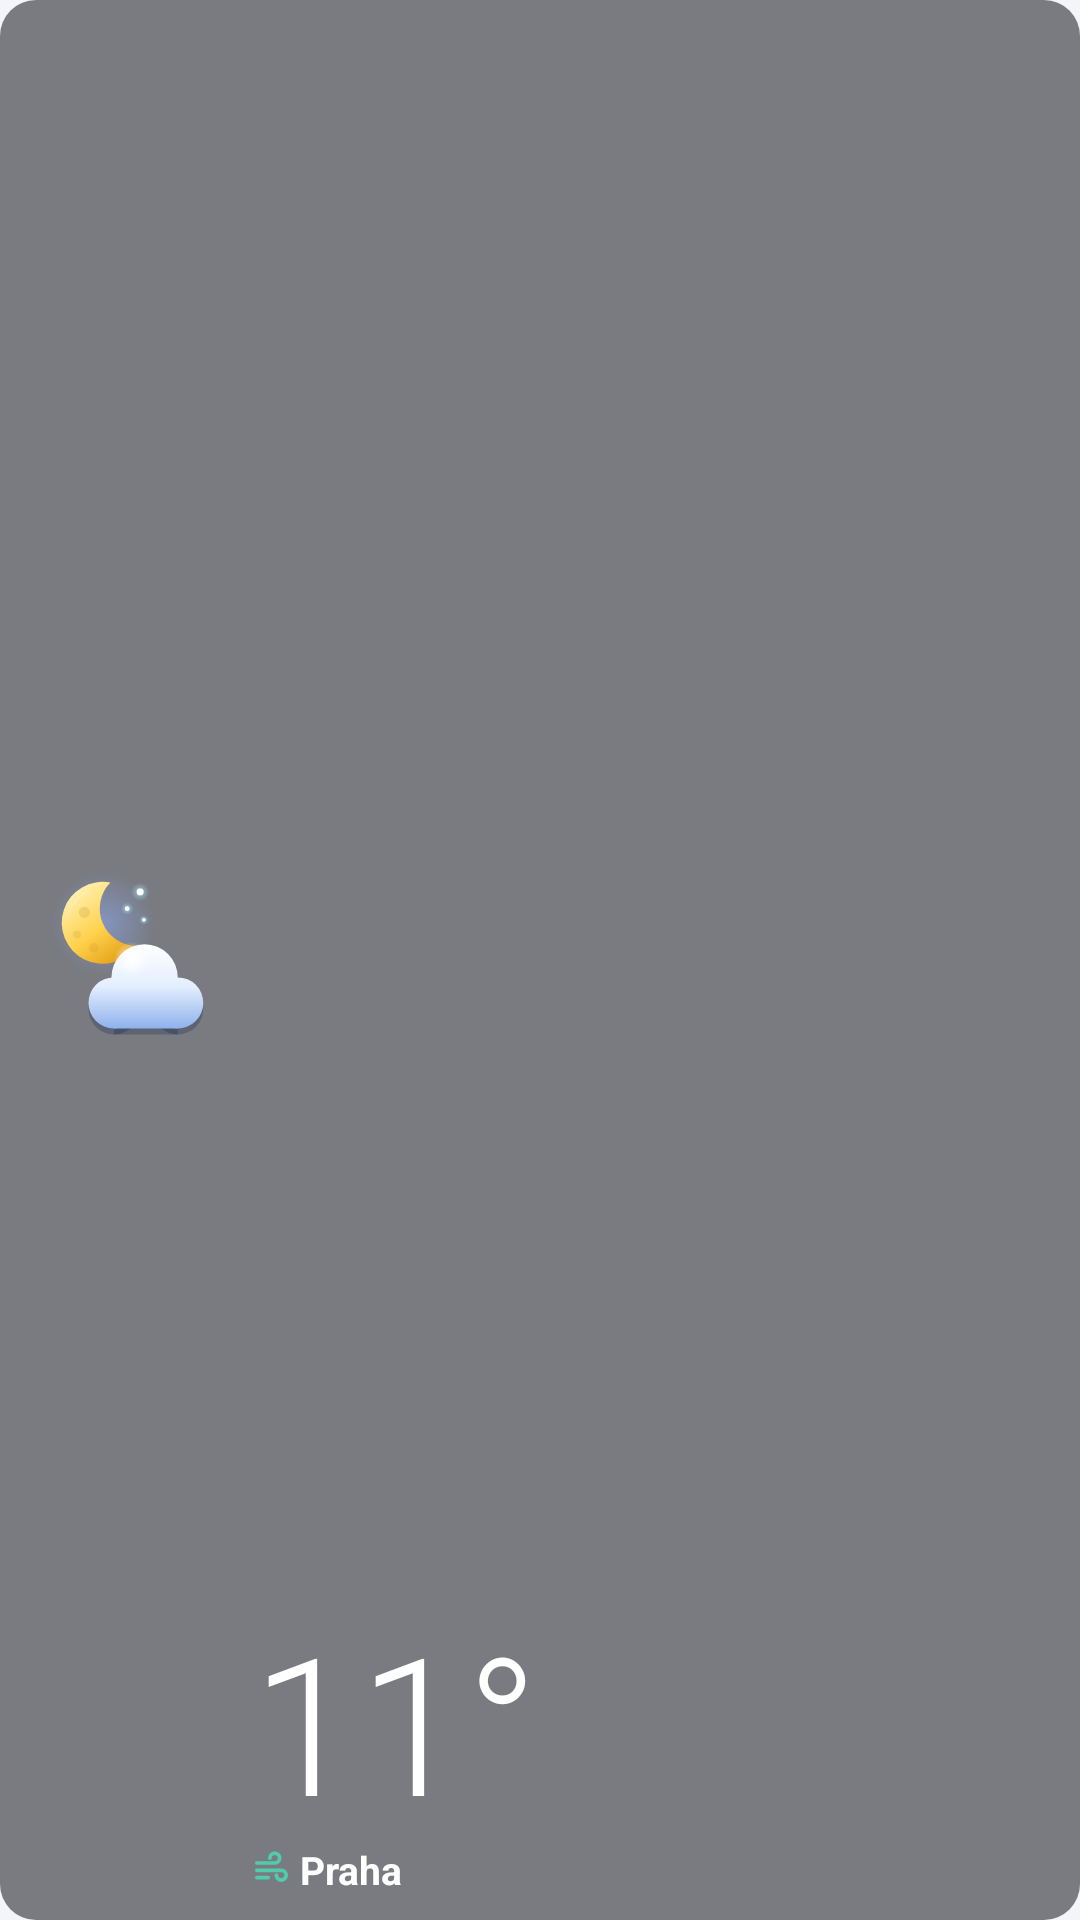

Icons on this 1080 x 1920 Android screen, each with the point to tap as (x=x, y=y):
air: (x=271, y=1866)
partly night: (x=132, y=958)
